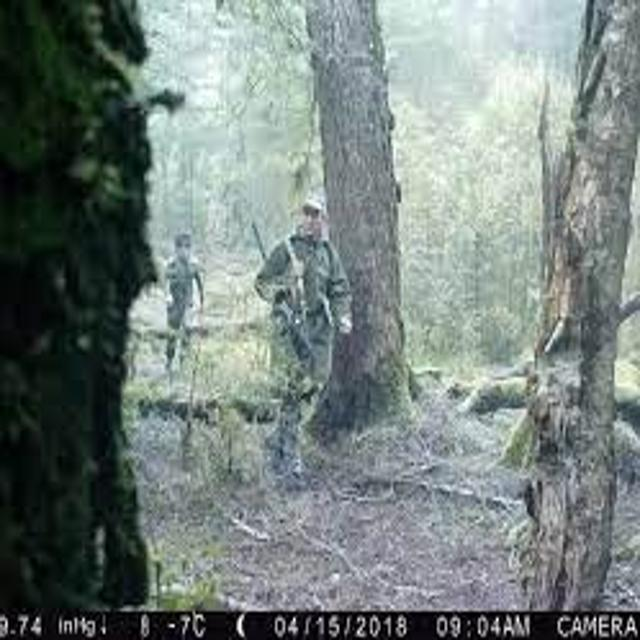gun: (237, 213, 321, 373)
poacher: (215, 175, 384, 533), (144, 190, 235, 388)
